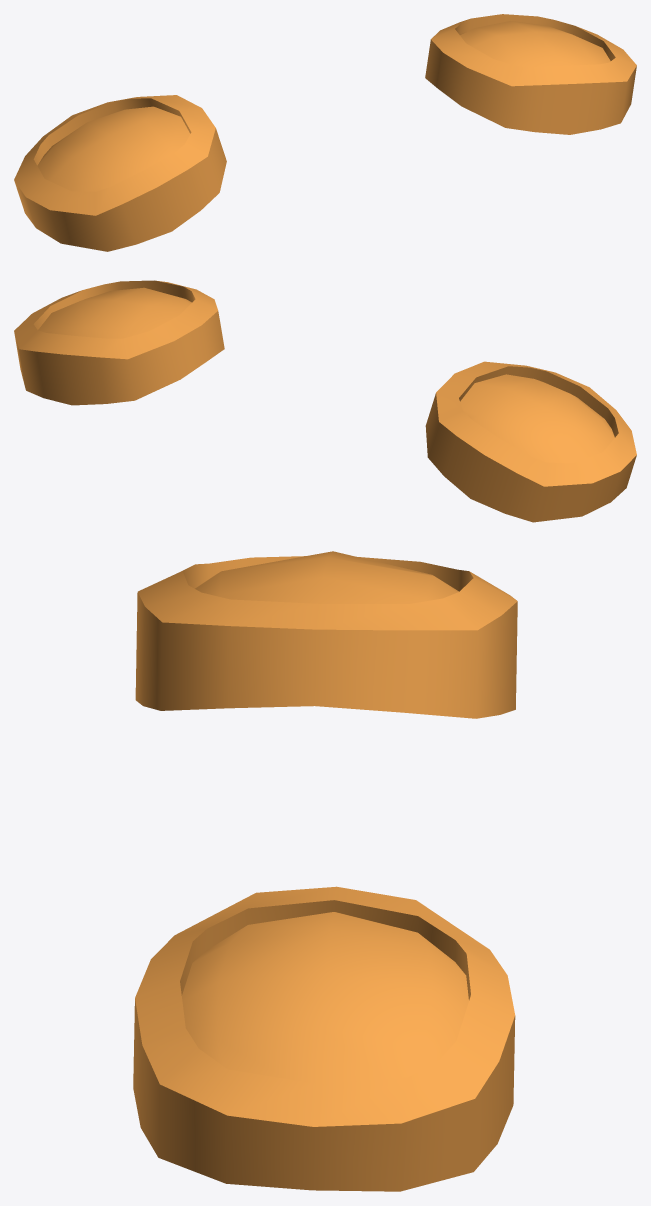
The model's file is bomb enemy shoulder armor.fbx.
3 renders of one model, top to bottom at view 1: azimuth 30°, elevation 25°; view 2: azimuth 150°, elevation 25°; view 3: azimuth 270°, elevation 25°, orthographic. The views are drawn at different scales.
Parts seen in each view (by area): view 1: ShoulderArmor1, ShoulderArmor1__1_; view 2: ShoulderArmor1, ShoulderArmor1__1_; view 3: ShoulderArmor1__1_, ShoulderArmor1.
Boxes of the visible parts, <box> form: ShoulderArmor1: <box>14,95,226,251</box>; ShoulderArmor1__1_: <box>425,14,636,134</box>; ShoulderArmor1: <box>425,361,636,522</box>; ShoulderArmor1__1_: <box>14,280,224,405</box>; ShoulderArmor1__1_: <box>133,886,515,1191</box>; ShoulderArmor1: <box>135,551,517,718</box>.
Bounding box in the file's own units: 71.56 × 10.26 × 20.16.
